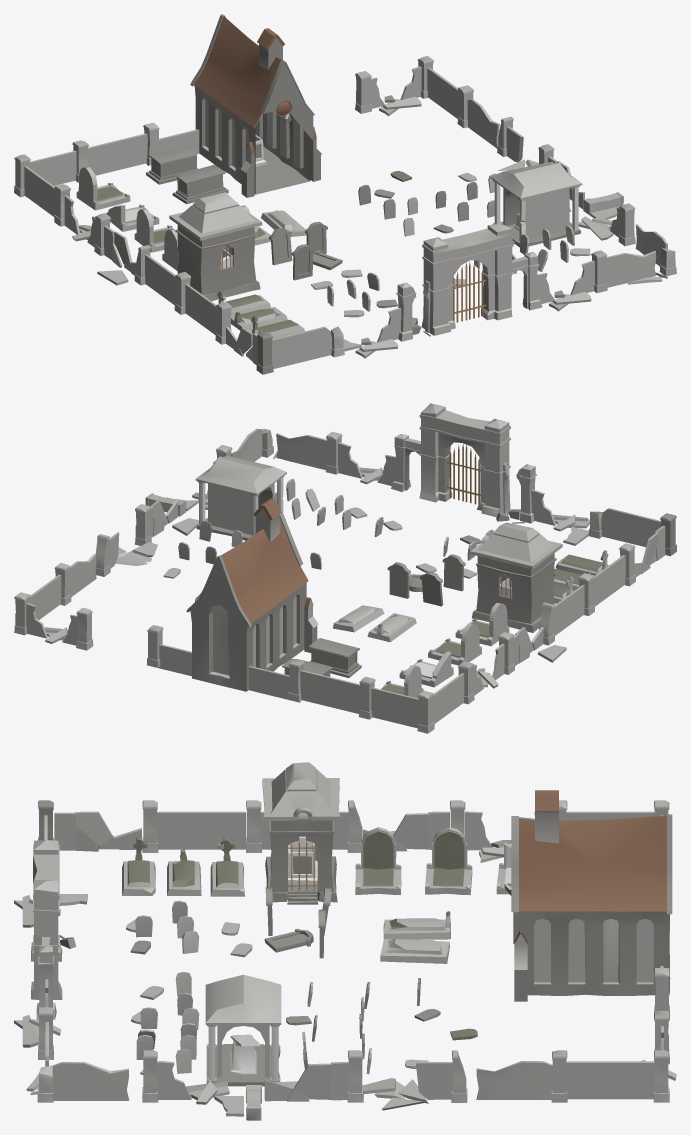
Rendered from mezarlık.fbx.
3 renders of one model, top to bottom at view 1: azimuth 30°, elevation 25°; view 2: azimuth 150°, elevation 25°; view 3: azimuth 270°, elevation 25°, orthographic. The views are drawn at different scales.
Parts seen in each view (by area): view 1: mezarlık; view 2: mezarlık; view 3: mezarlık.
Boxes of the visible parts, x1,y1,x2,y2 form: mezarlık: (14, 14, 676, 374); mezarlık: (14, 403, 676, 733); mezarlık: (14, 762, 676, 1120).
Bounding box in the file's own units: 2024 × 623 × 1973.
